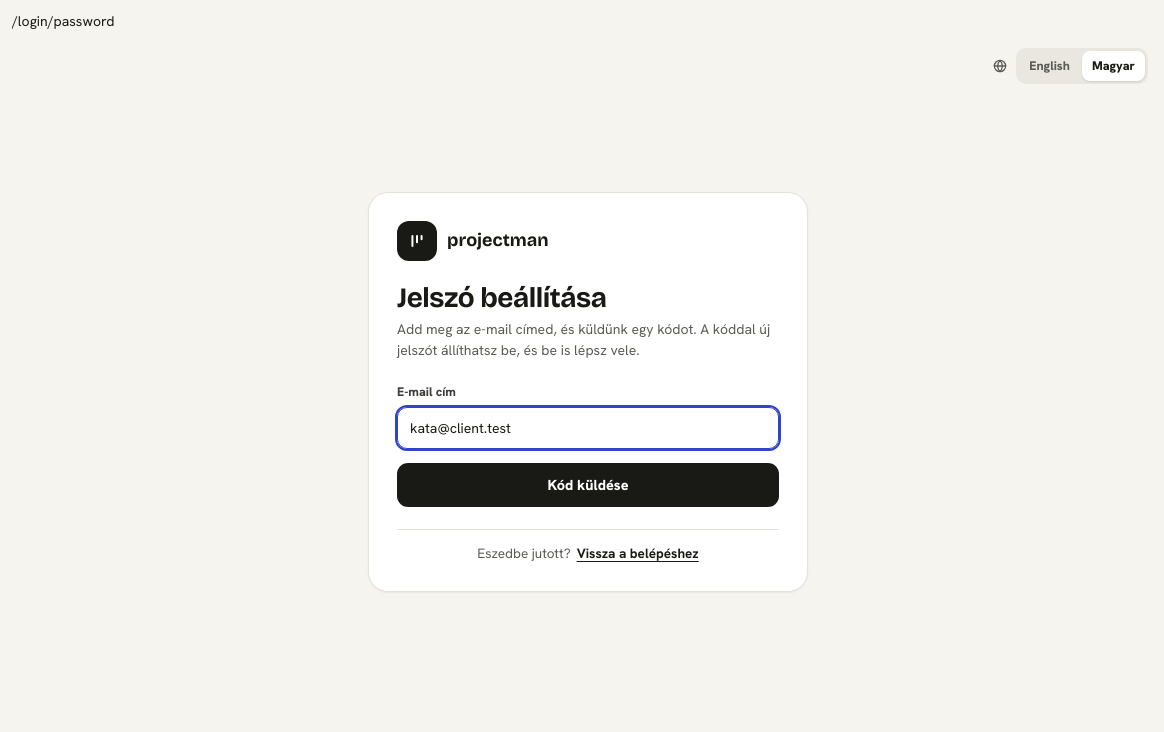
Test case: PasswordResetPage › keeps the password after a wrong code and puts the focus back on the code
The image size is (1164, 732).
Click the button "Kód küldése" at coordinates (588, 485), box [397, 463, 779, 507]
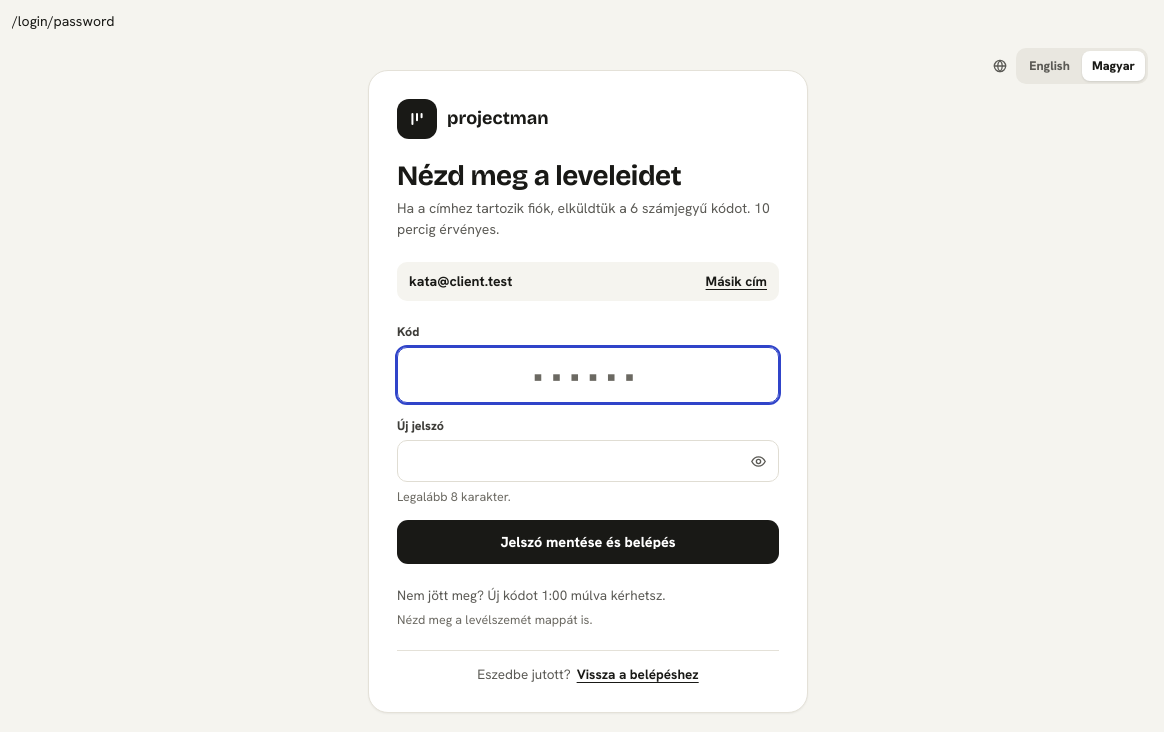
Type "000000" into the field labelled "Kód" at coordinates (588, 375), box [397, 347, 779, 403]
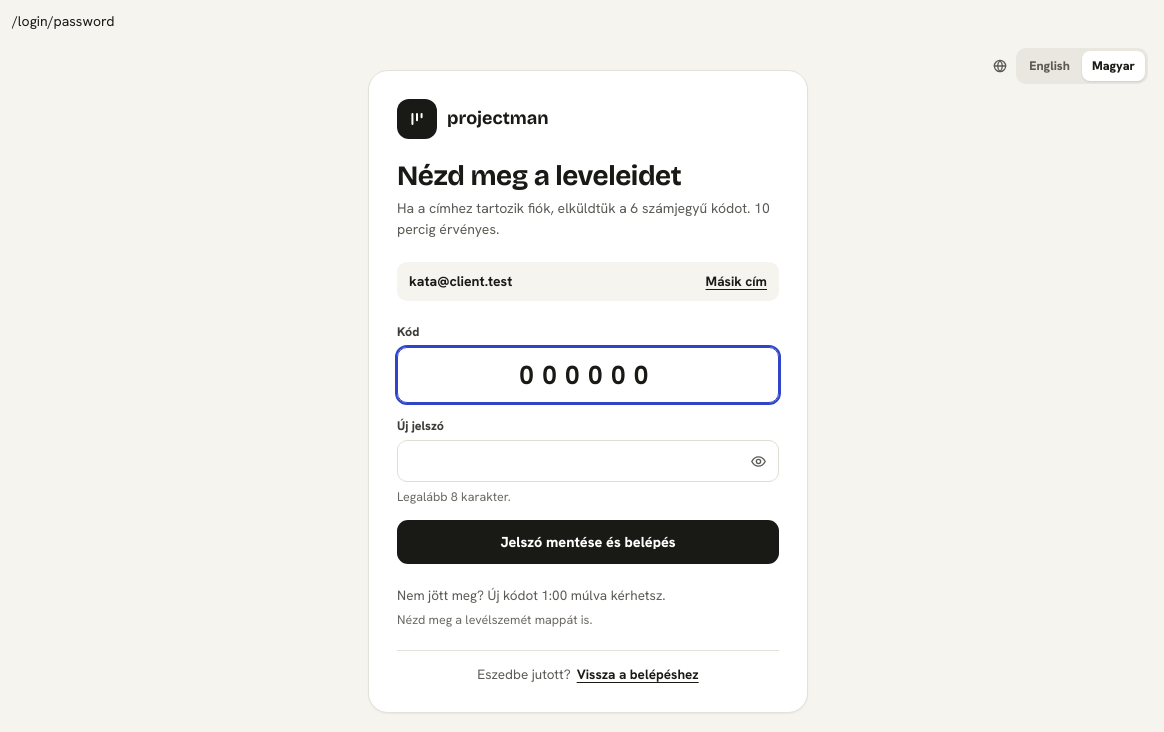
Type "a brand new password" into the password field labelled "Új jelszó" at coordinates (588, 461), box [397, 440, 779, 482]
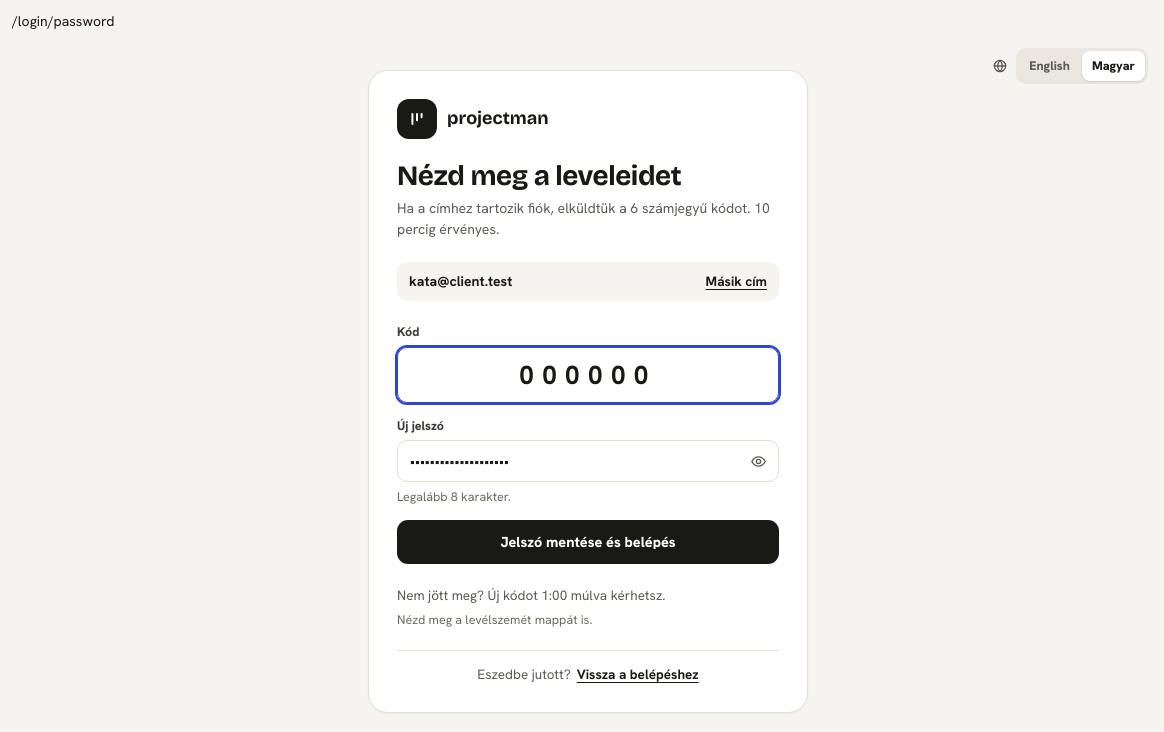
Click the button "Jelszó mentése és belépés" at coordinates (588, 542), box [397, 520, 779, 564]
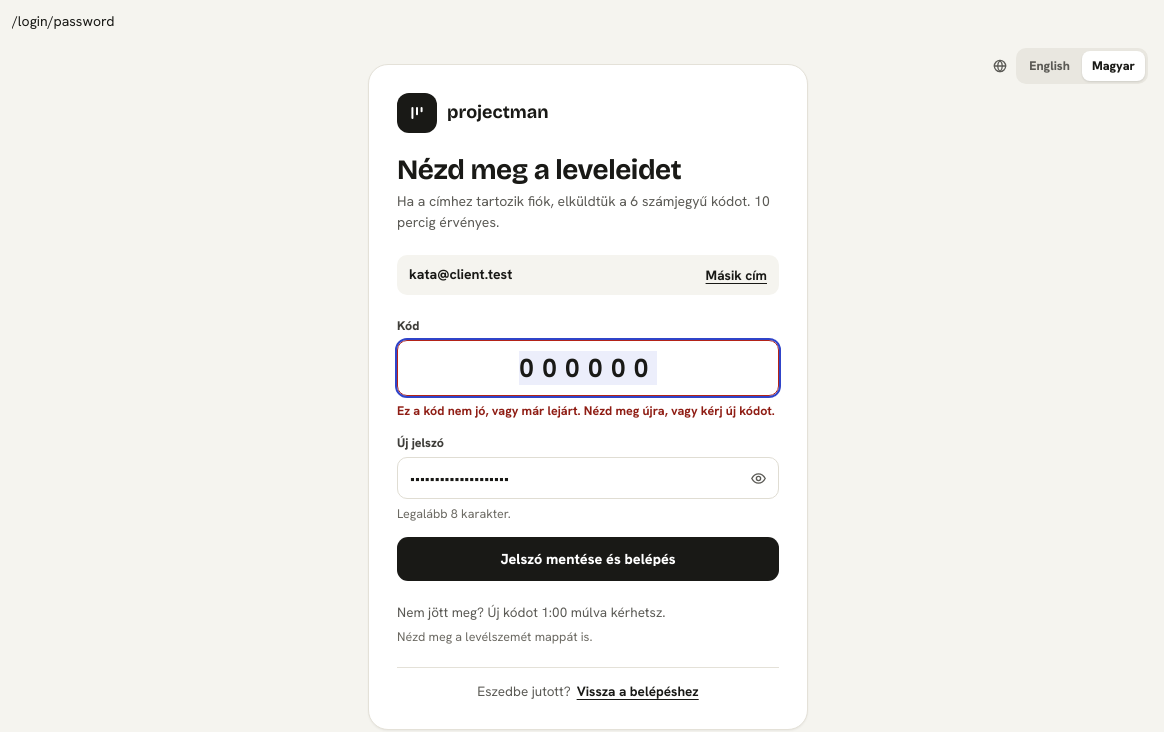
Expected: the text "Ez a kód nem jó, vagy már lejárt. Nézd meg újra, vagy kérj új kódot." is shown, [397, 402, 779, 420]
